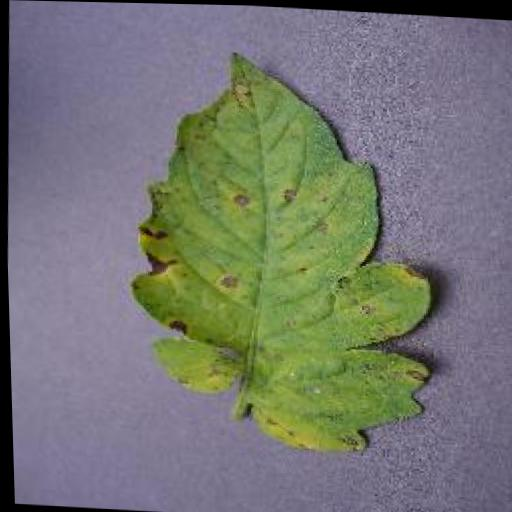Septoria: (116, 46, 446, 464)
